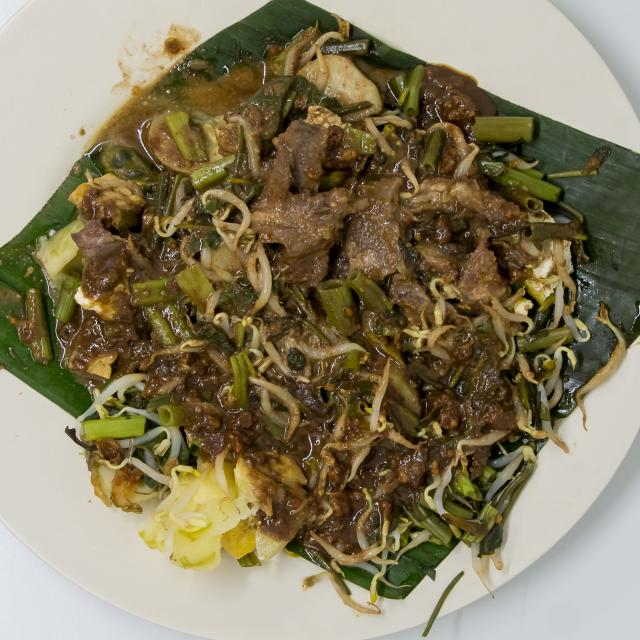Rujak-Cingur: (56, 29, 588, 573)
